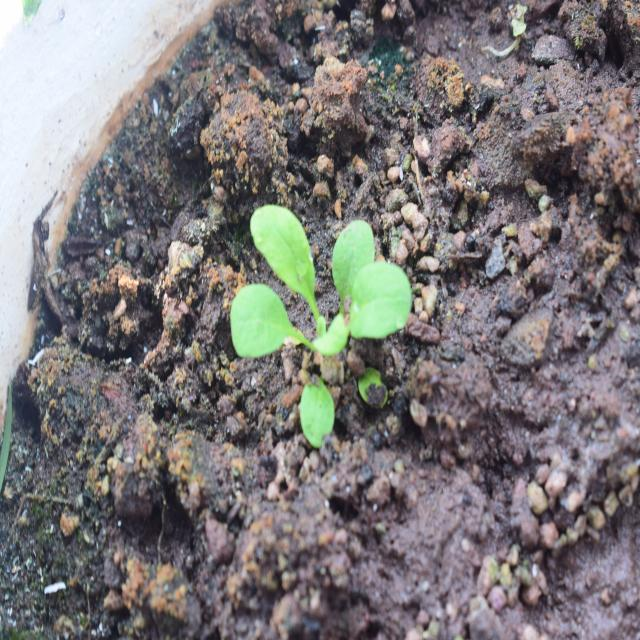Shepherd_Purse: (240, 188, 414, 435)
